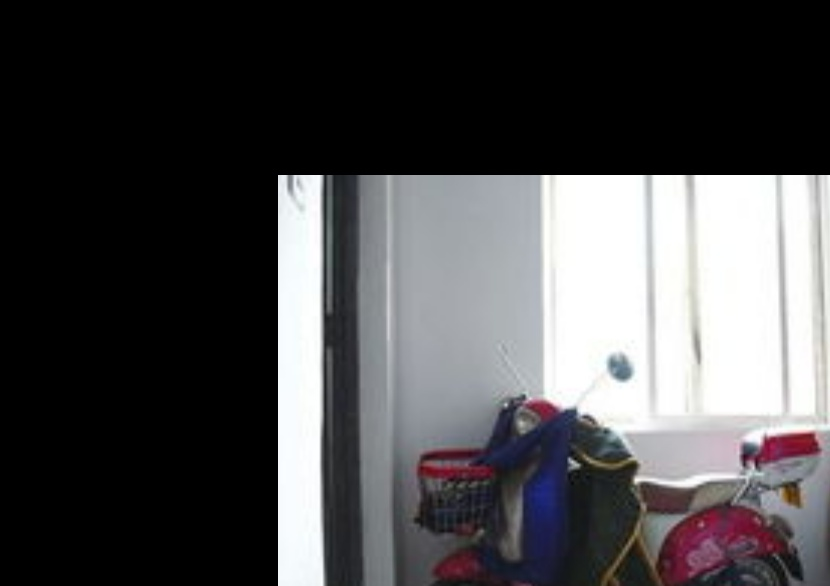ebike: (419, 342, 818, 585)
